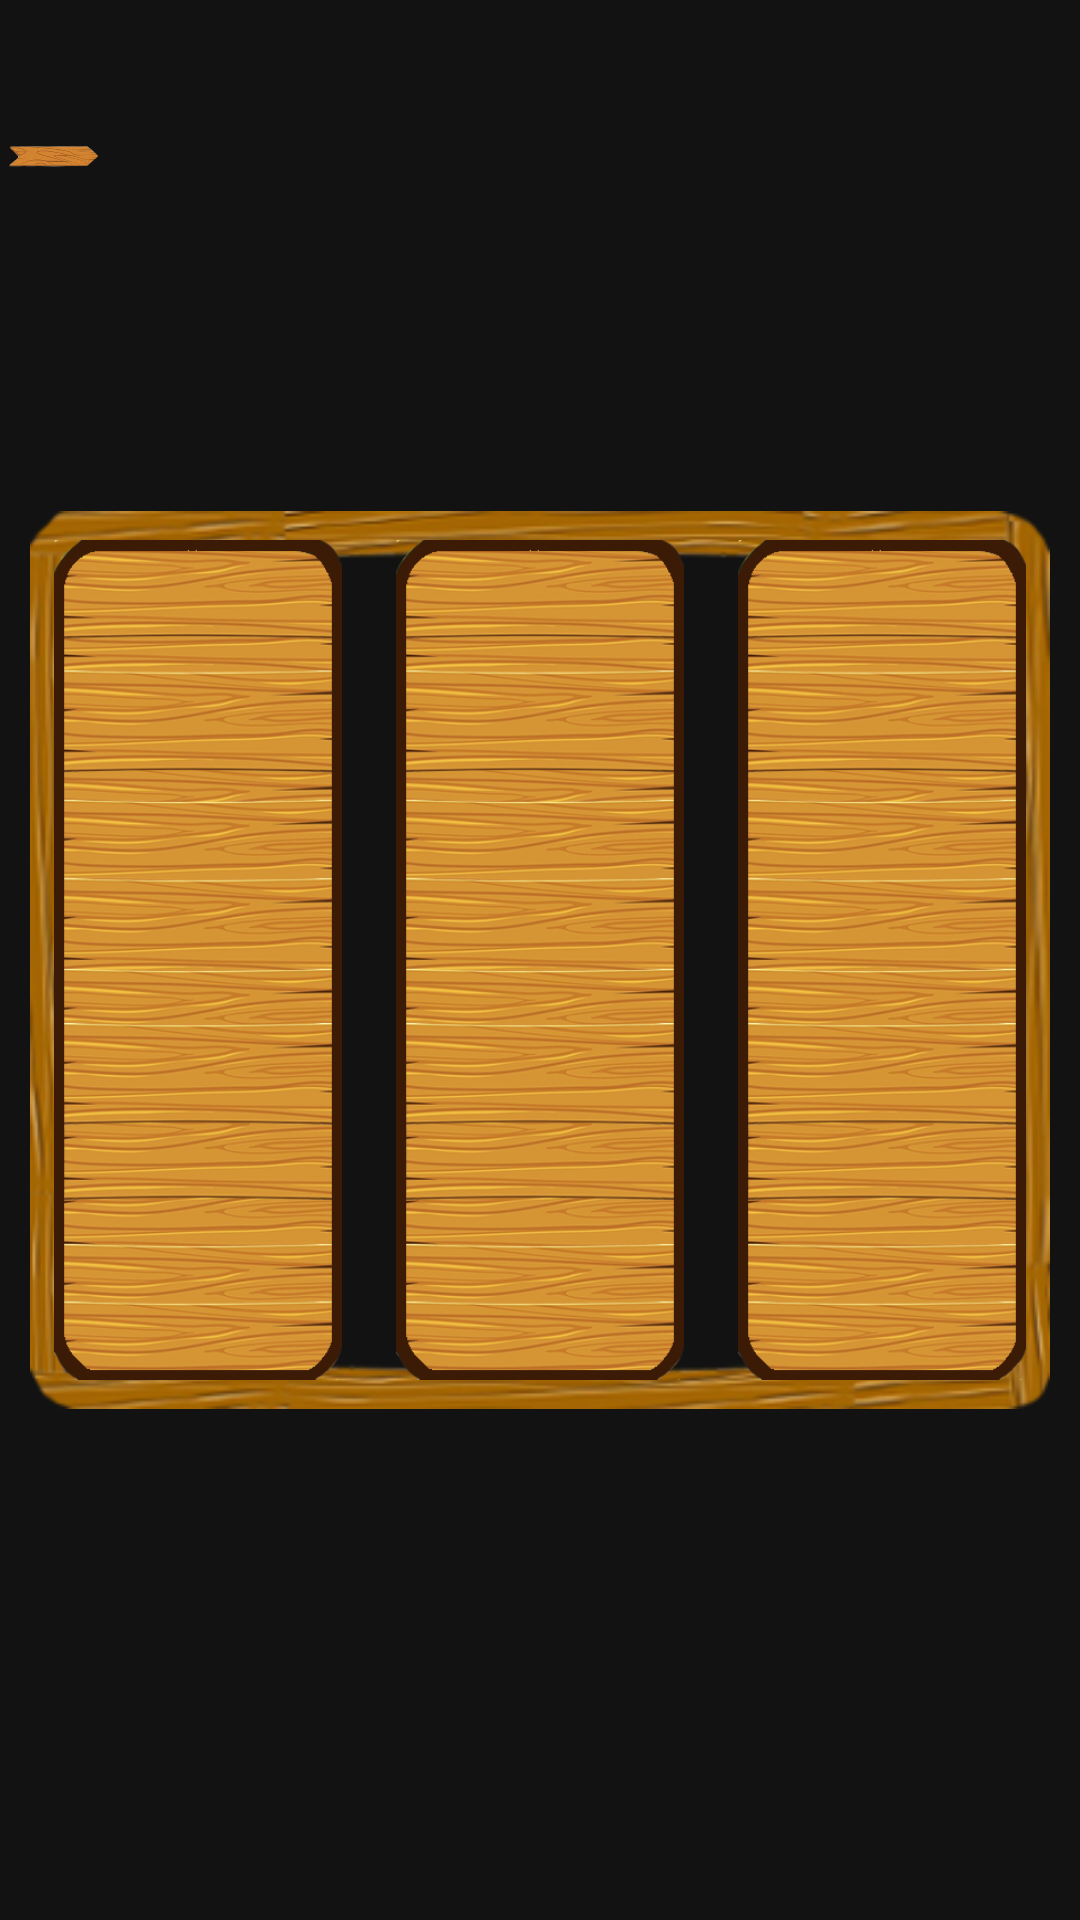

Icons on this 1080w x 1920h Android screen, each with the point to tap as (x=x, y=y):
arrow: (x=53, y=156)
